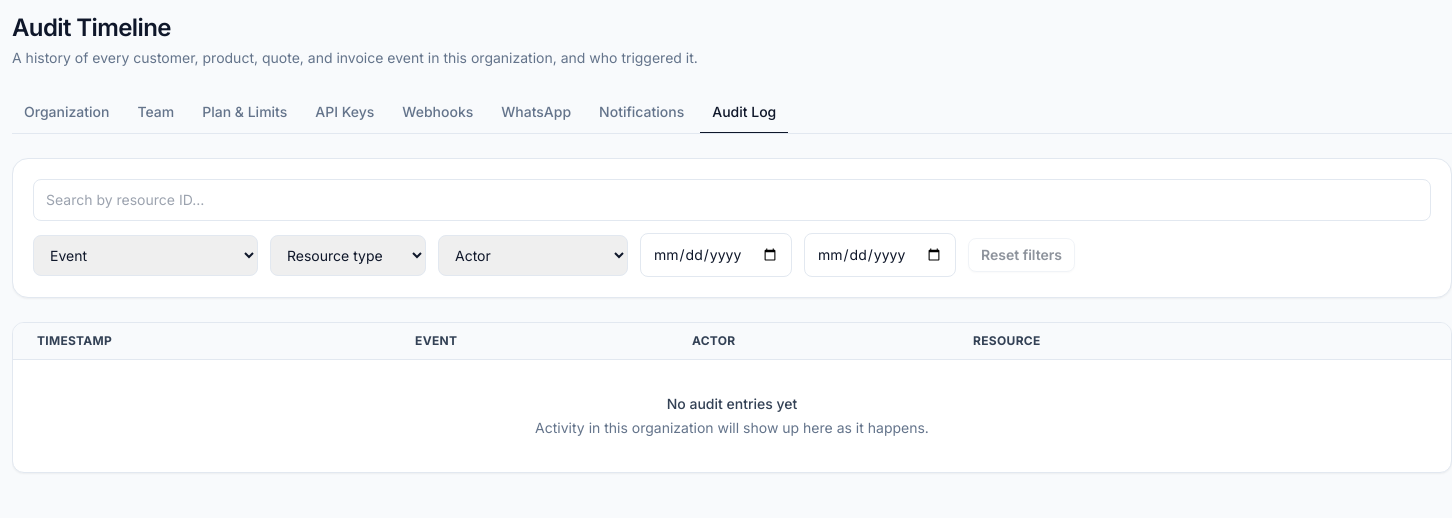
Test: SettingsAuditLogPage › shows a filtered-empty state with a reset action when filters are active but nothing matches
This screenshot has width=1452, height=518.
Expected: the text "No audit entries yet" is shown, [667, 395, 797, 412]
Type "nope" into the search field labelled "Search by resource ID".
click(732, 200); type("nope")  # box [33, 179, 1431, 221]
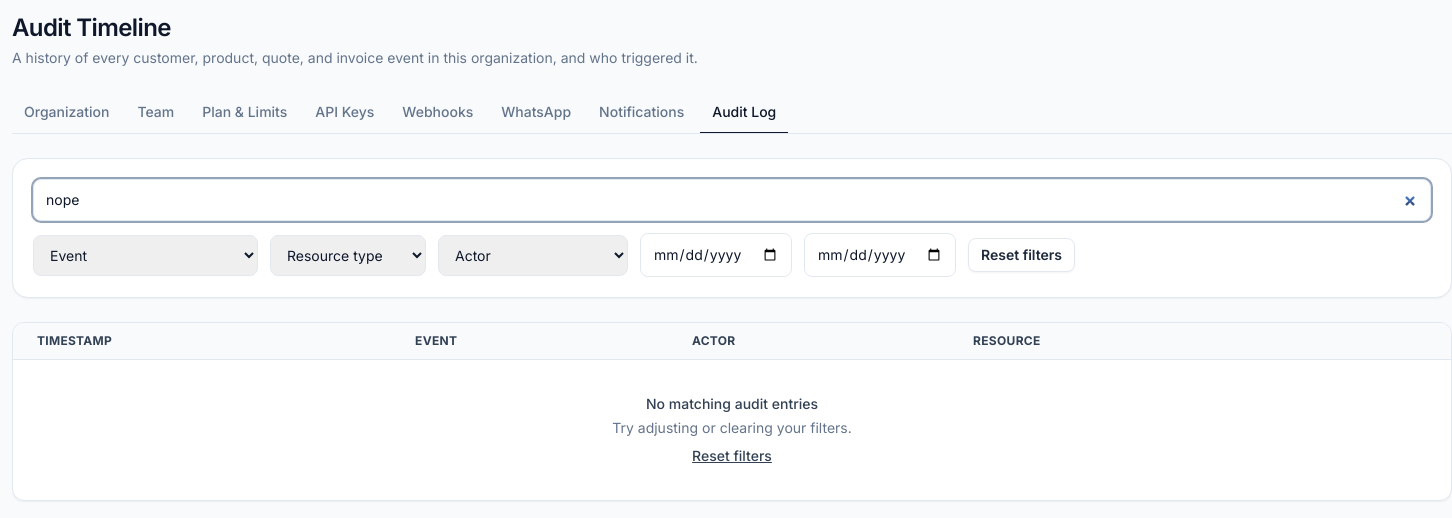
Expected: the text "No matching audit entries" is shown, [646, 395, 818, 412]
Click the 1st button "Reset filters".
click(1022, 255)  # box [968, 238, 1075, 272]
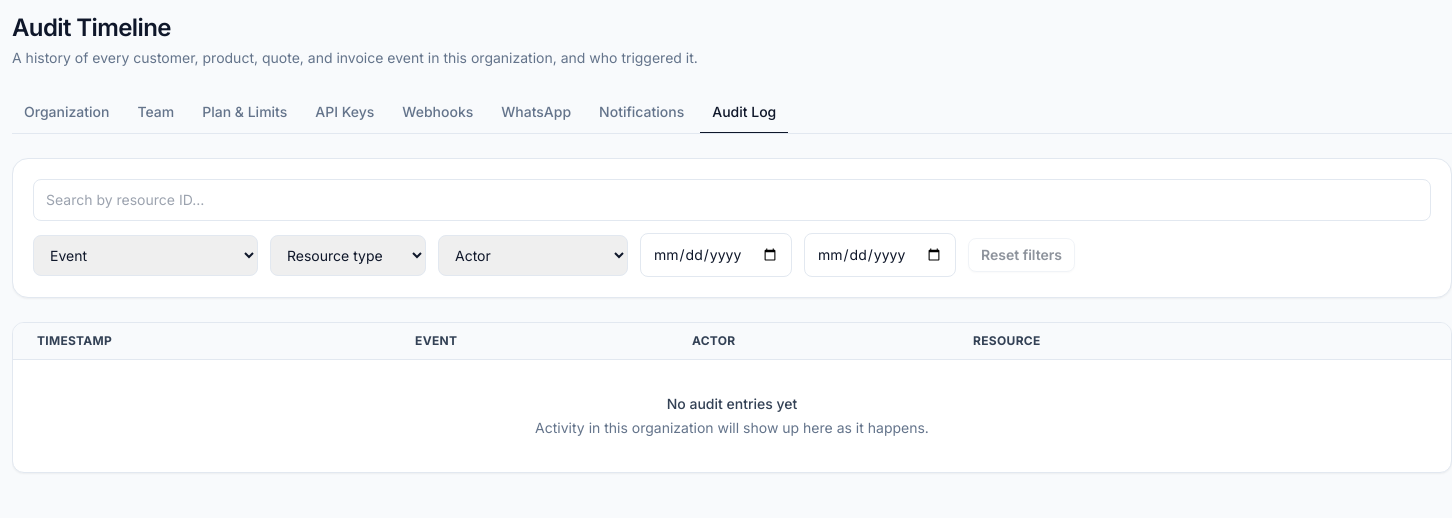
Expected: the text "No audit entries yet" is shown, [667, 395, 797, 412]
